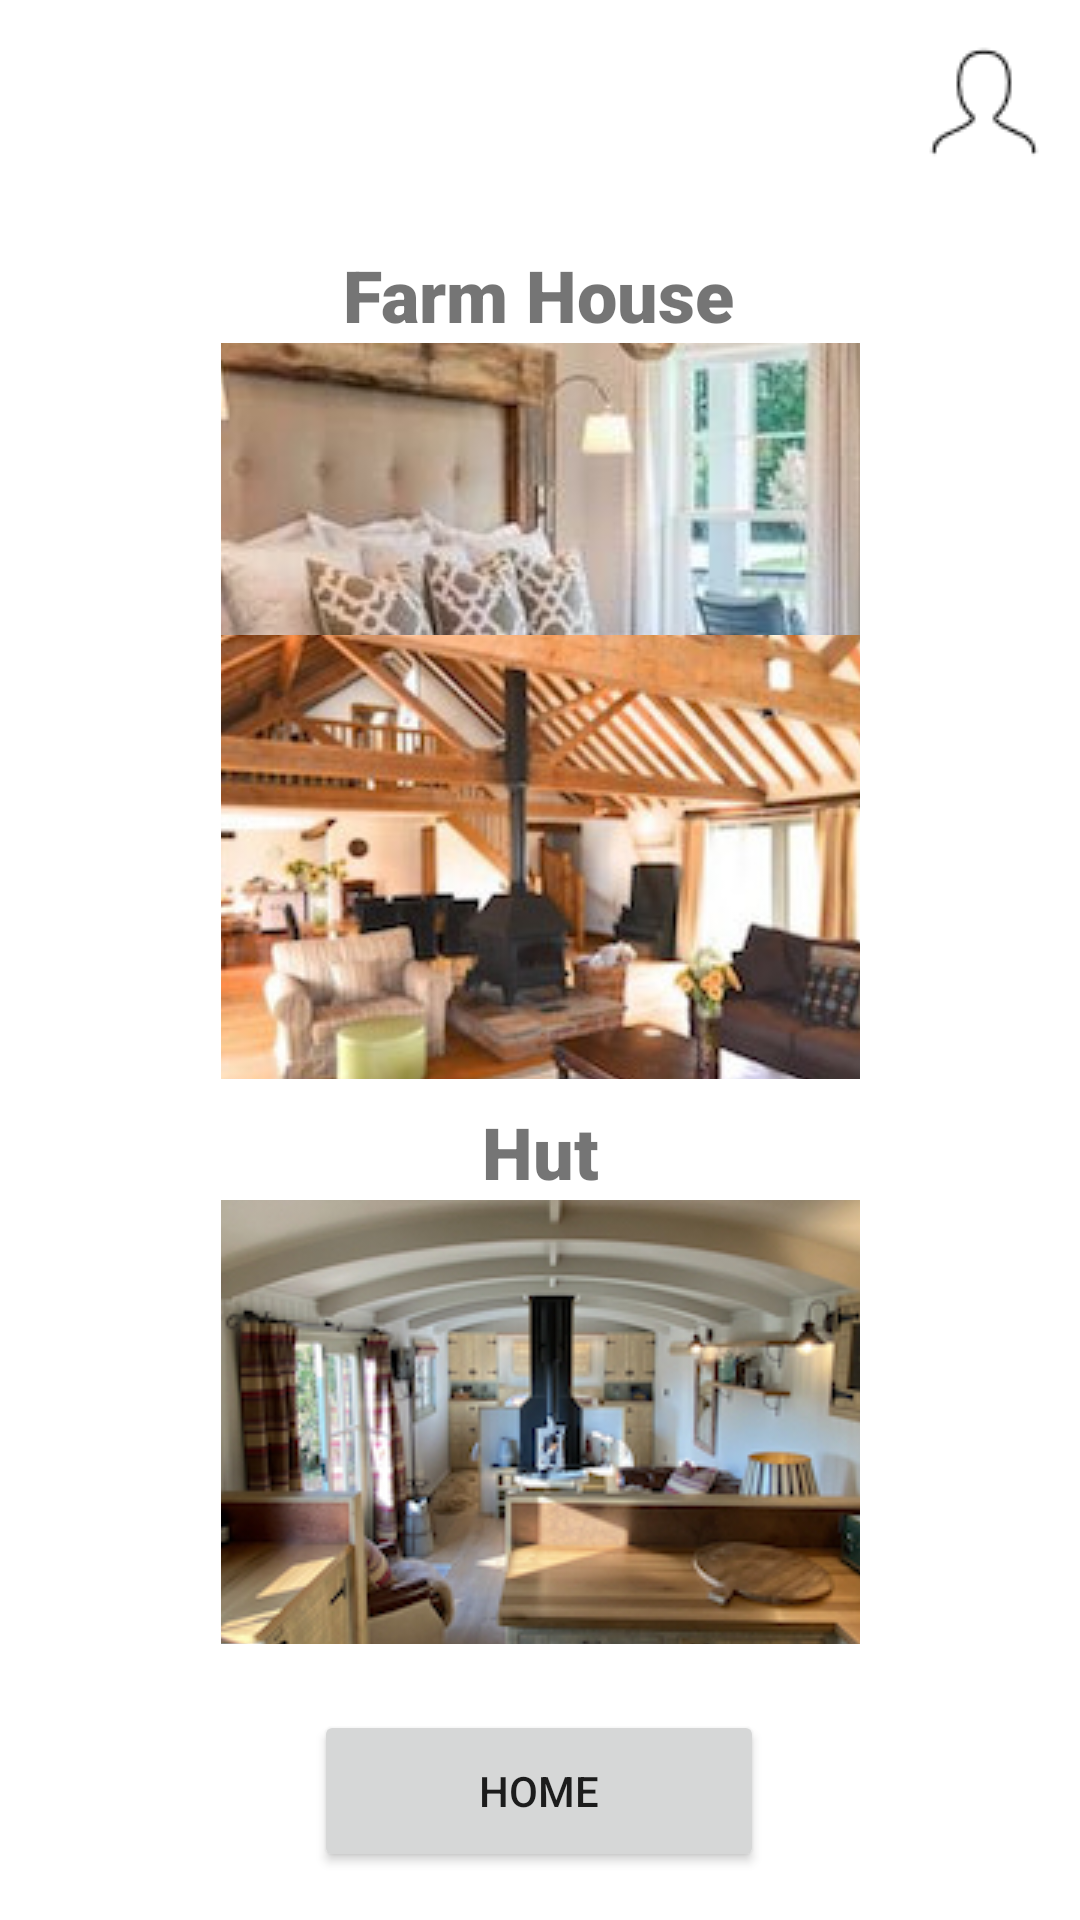

Icons on this 1080×1920 Android screen, each with its box as (x1, y1, x2, y2):
usericon: (931, 49, 1037, 154)
